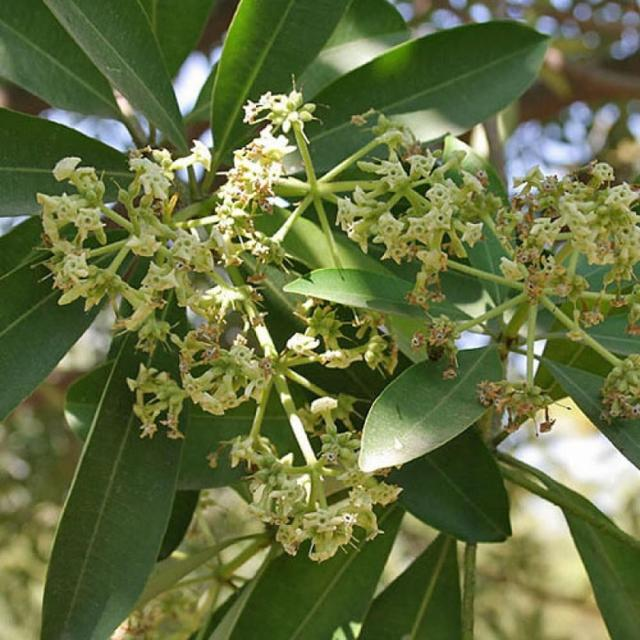Indian Pulai: (338, 133, 613, 520), (47, 116, 356, 410), (209, 416, 550, 640)
